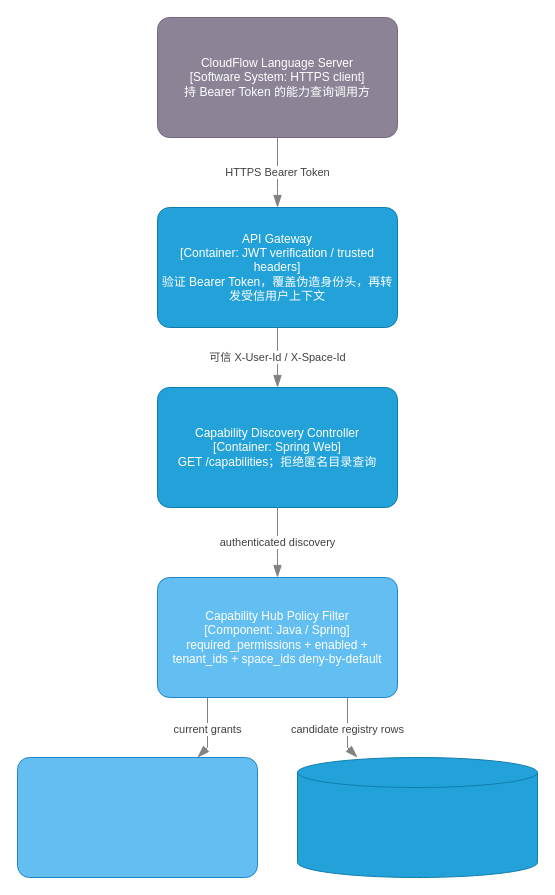
Image size: 555x895. Some labels were removed from this diagram. The centre of each missing label's shape, as x and y in pixels:
"Capability Registry [Container: MySQL] 插件/API/内置能力 schema、版本与可用性策略" belongs at [417,817].
"Platform Authorization Client [Component: internal HTTP] 按用户与空间解析当前授权集合" belongs at [137,817].
